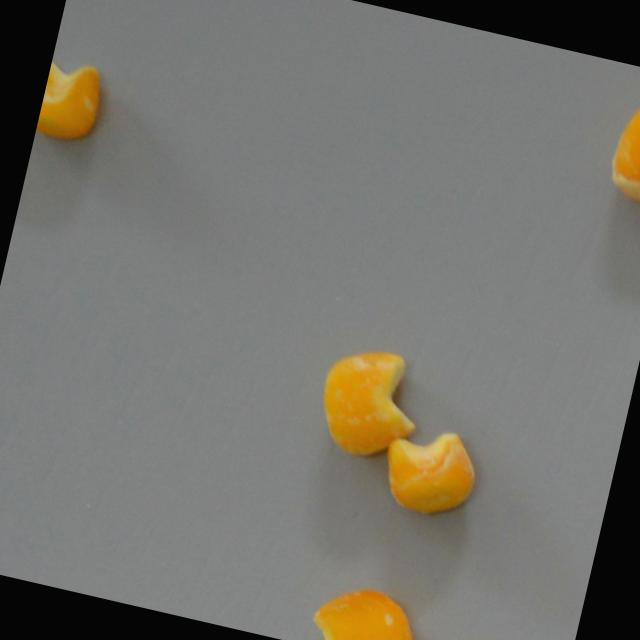no_canjicado: (306, 577, 428, 640), (34, 55, 109, 150)
pelicula: (309, 339, 430, 467), (374, 418, 483, 523), (603, 93, 640, 203)
